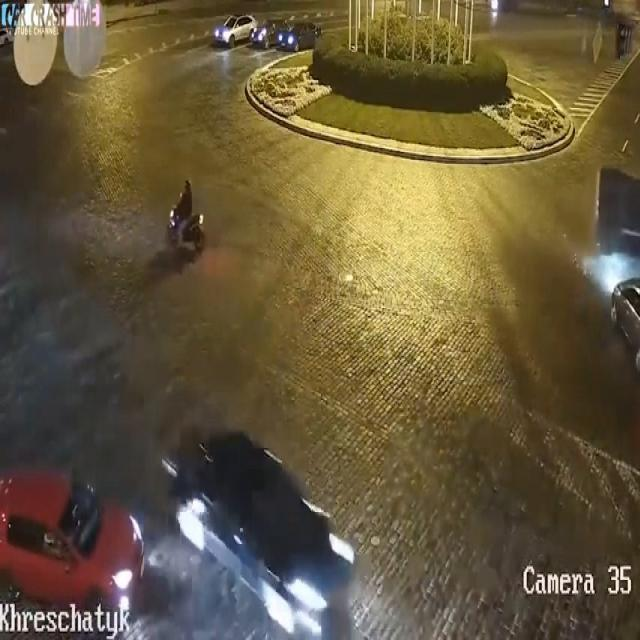Accident: (592, 128, 640, 356)
